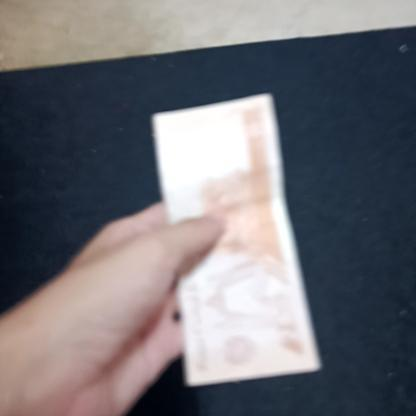twenty-back-vef: (151, 92, 320, 390)
